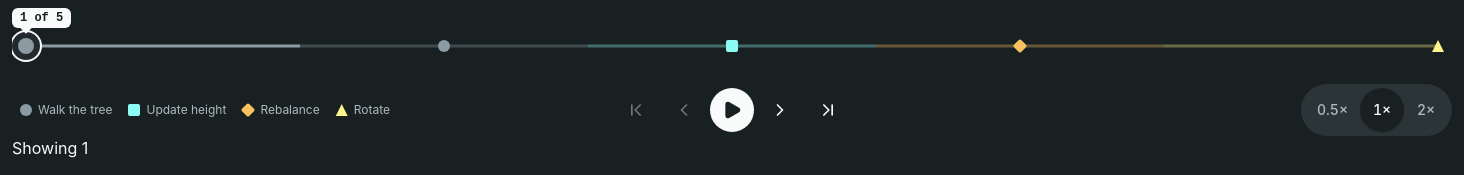
Scenario: marks the buttons that can't go further at each end
The width and height of the screenshot is (1464, 175).
Step 1. Click the button named "Last step" → point(828, 110), box [806, 88, 850, 132]
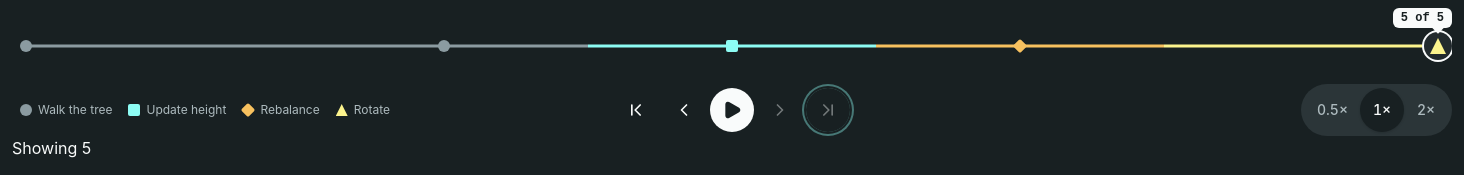
expect the text "Showing 5" is shown: met, box [12, 138, 91, 158]
